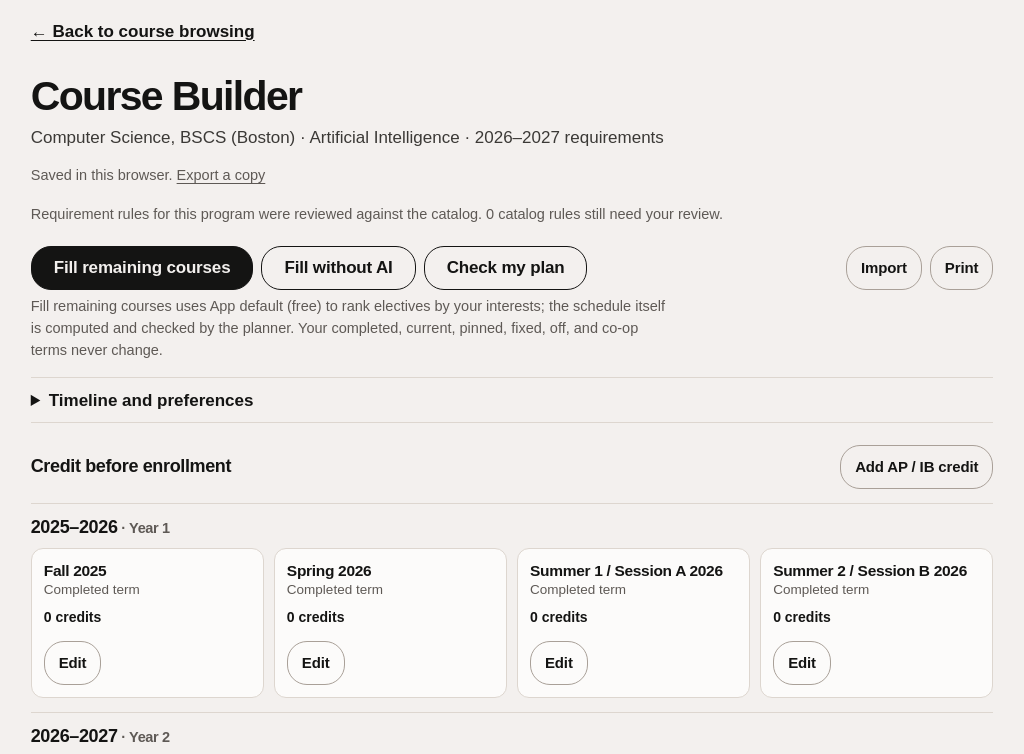
Test: a proposal is previewed, then applied; the saved plan is unchanged until Apply
Expected: the text "were reviewed against the catalog" is shown, [31,206,723,222]
Click the button "Fill without AI" at (339, 268), box [261,246,416,290]
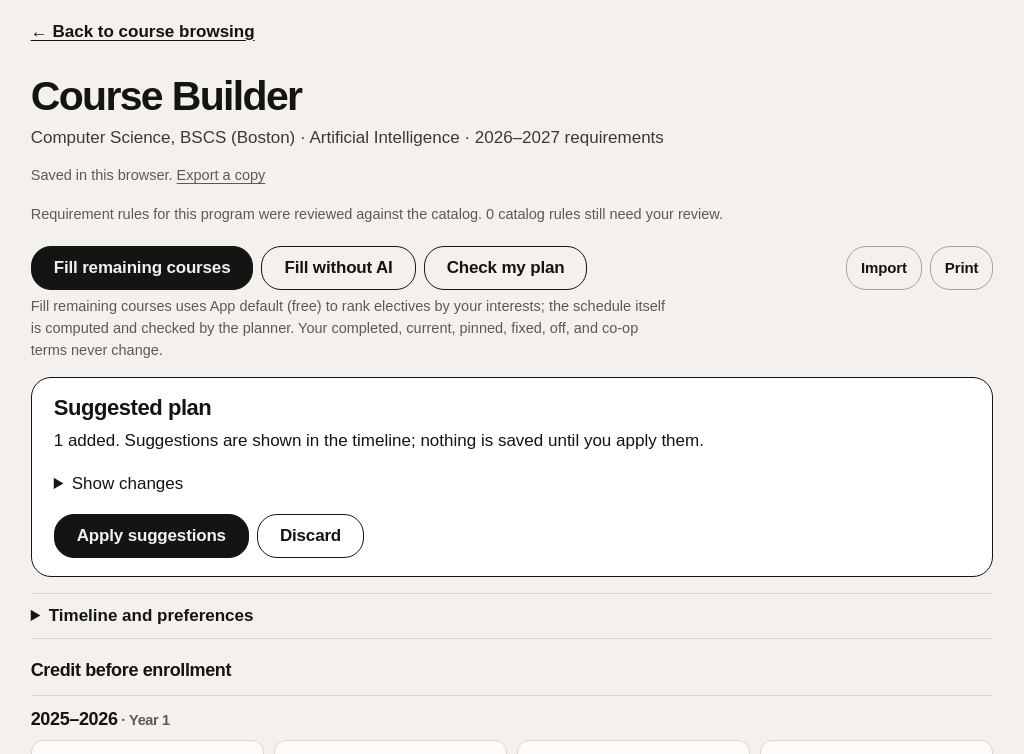
Expected: the heading "Suggested plan" is shown, [54,395,211,420]
Click the button "Apply suggestions" at (151, 536), box [54,514,249,558]
(page scrolled)
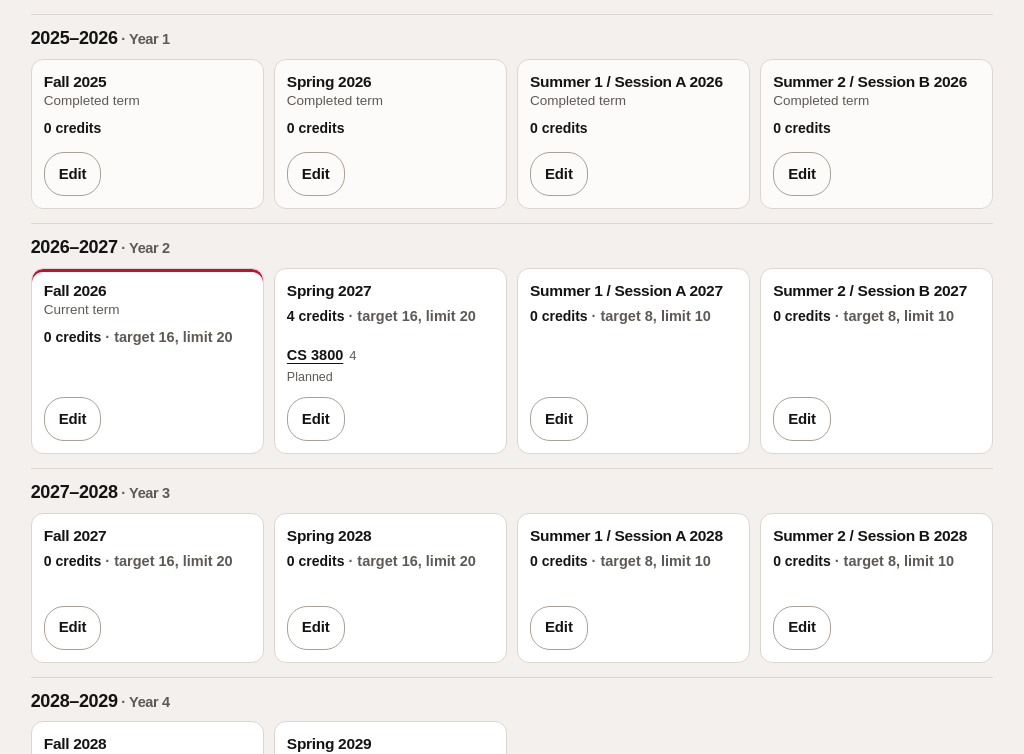
Expected: the heading "Suggested plan" is gone
Expected: the text "Planned" is shown, [287,370,333,384]
